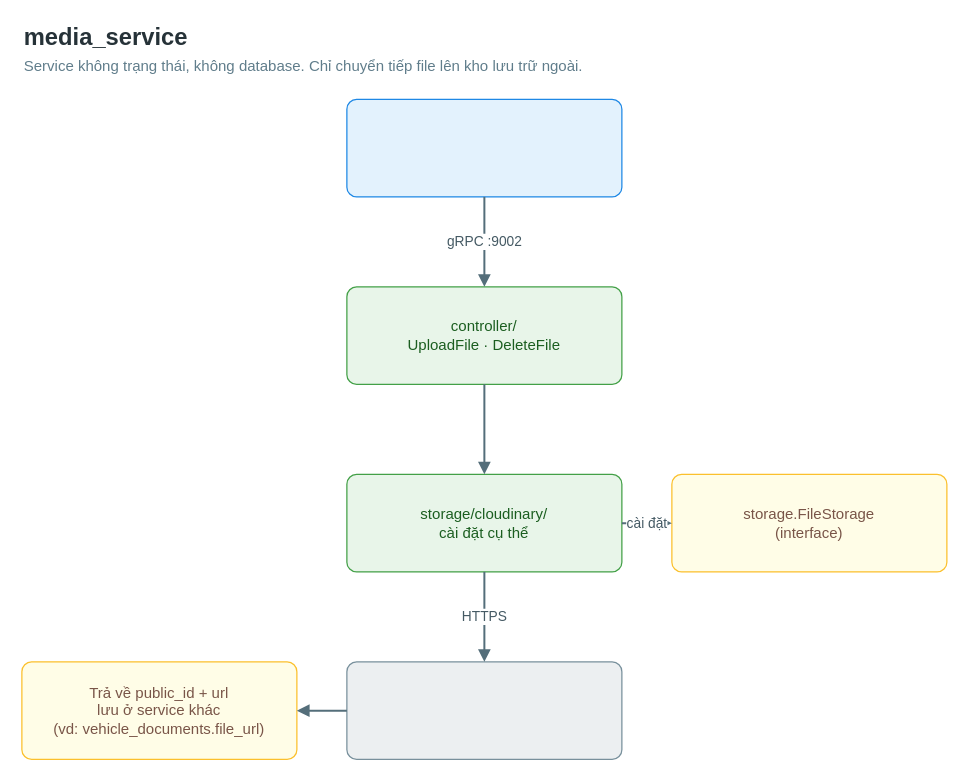
Image size: 969x781. Some labels were removed from this diagram. The centre of each missing label's shape, as x and y in pixels:
"Cloudinary" goes at [484,710].
"gateway_service multipart/form-data" goes at [484,147].
